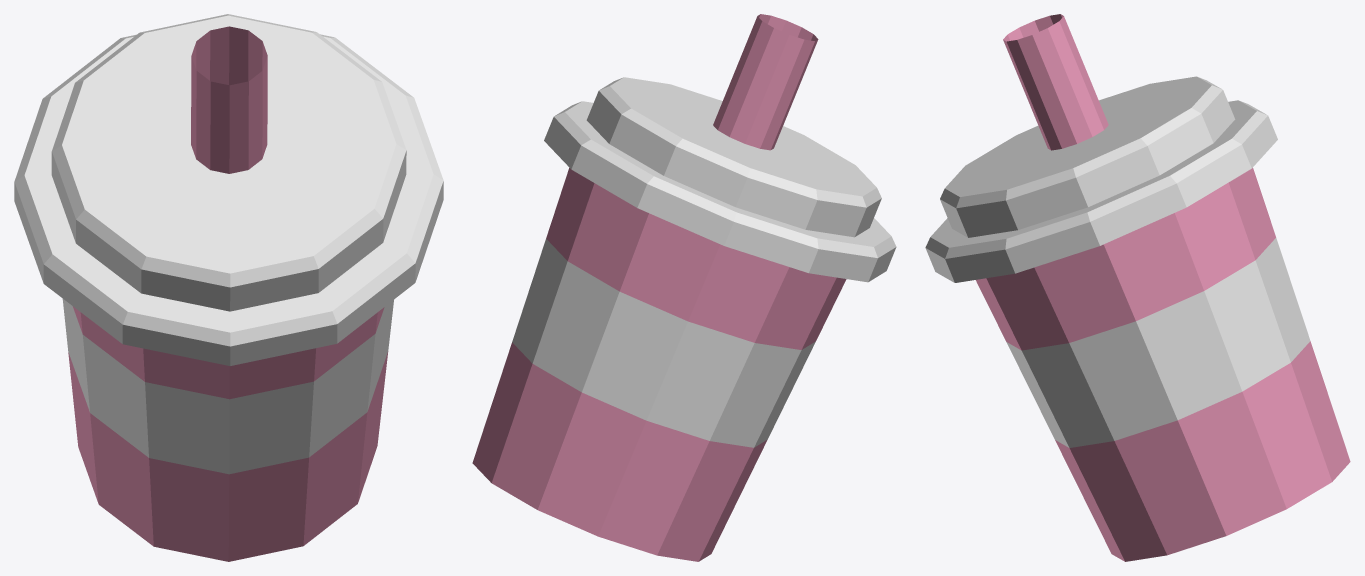
The model's file is bottle.glb.
3 renders of one model, left to right at view 1: azimuth 30°, elevation 25°; view 2: azimuth 150°, elevation 25°; view 3: azimuth 270°, elevation 25°, orthographic. The views are drawn at different scales.
Parts seen in each view (by area): view 1: 円; view 2: 円; view 3: 円.
Boxes of the visible parts, box(x1,y1,x2,y2) form: 円: box(14, 14, 443, 561); 円: box(472, 14, 896, 561); 円: box(925, 14, 1350, 561).
Bounding box in the file's own units: 2.97 × 4.24 × 3.3.
